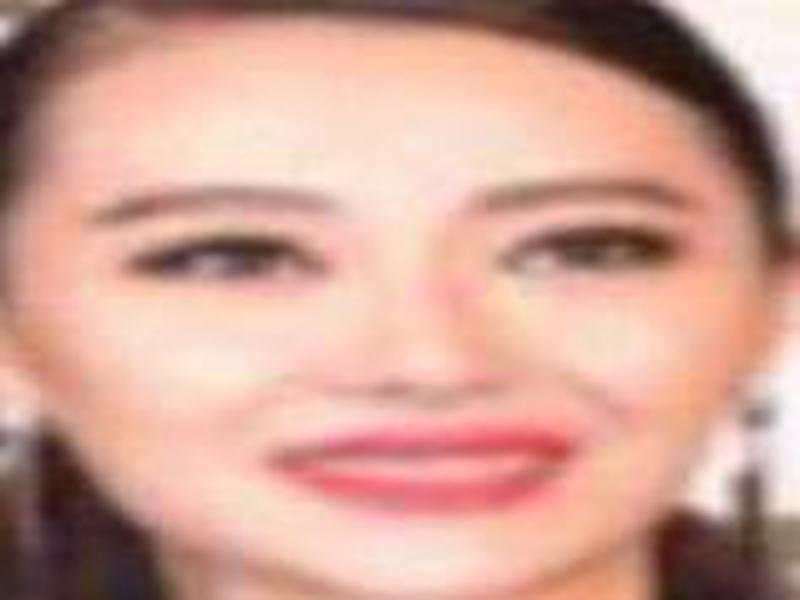without_mask: (31, 40, 744, 595)
